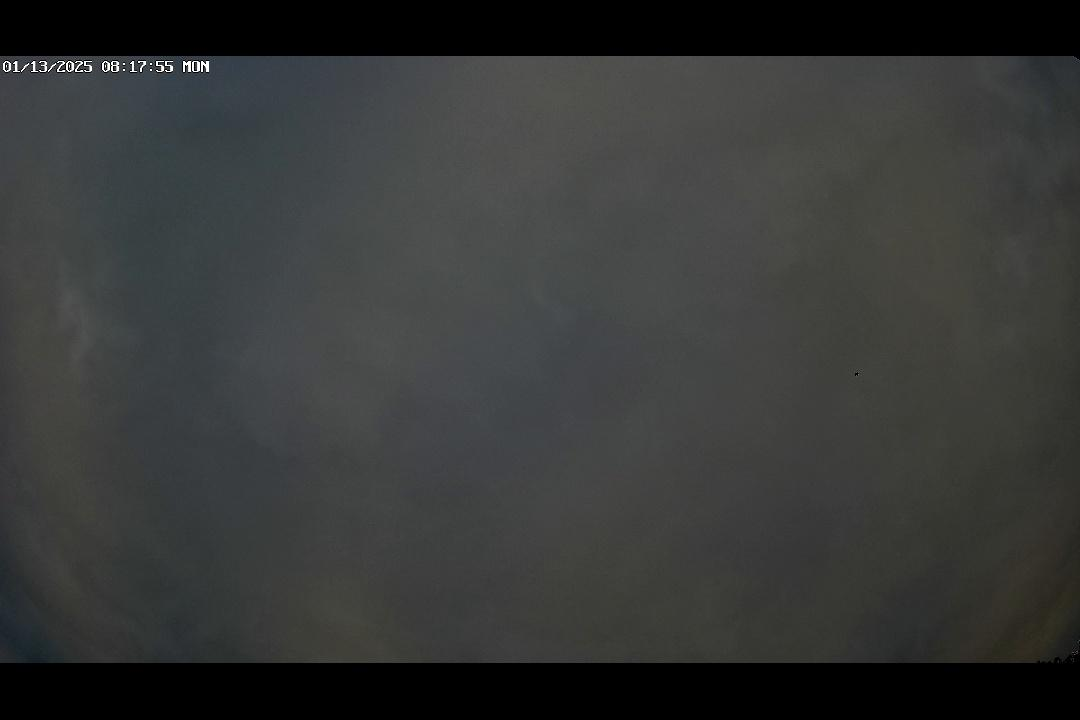WildLife: (848, 364, 866, 384)
